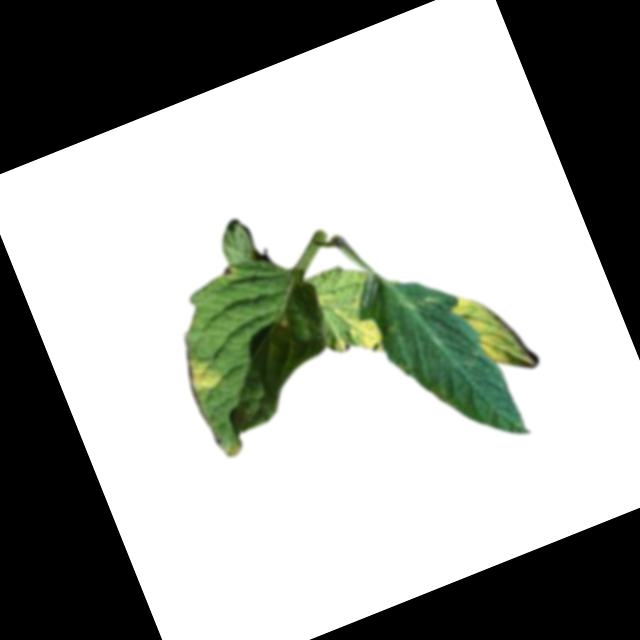Leaf_Mold: (452, 277, 540, 385), (326, 314, 387, 368), (179, 351, 225, 398)
